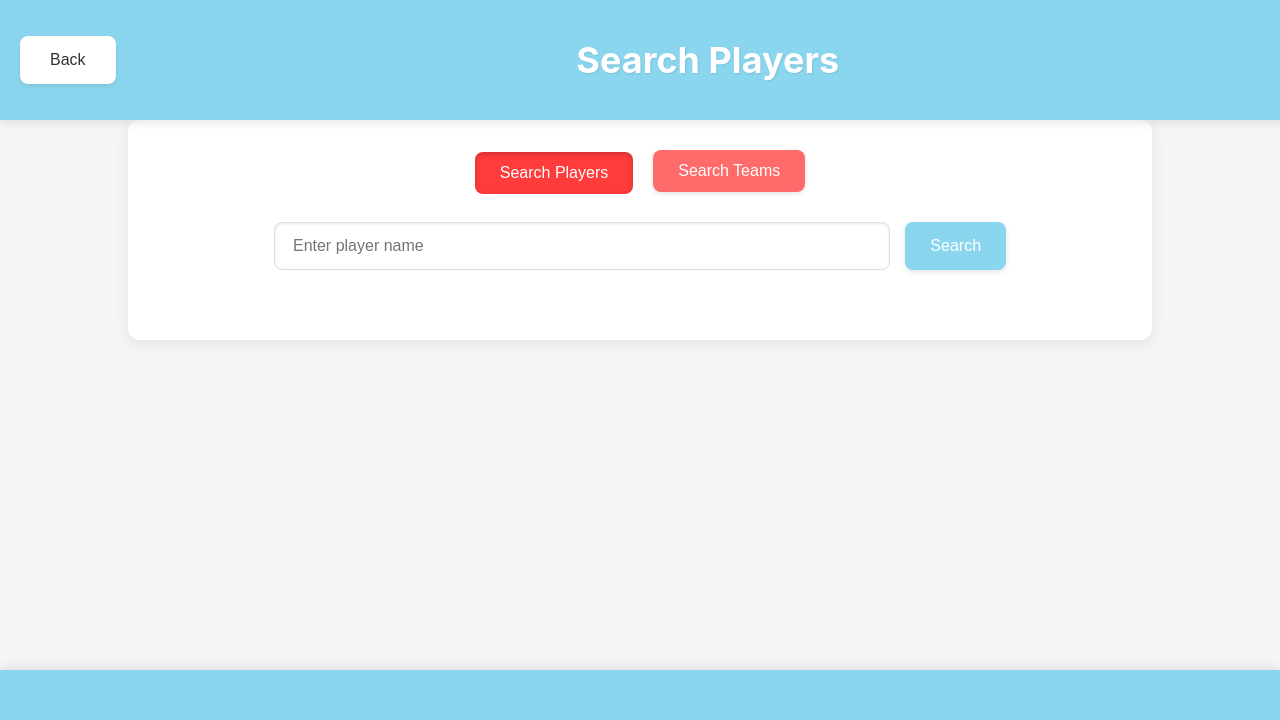
Test: SearchInterface Component › search_player_no_results
// trigger user input
Step 1. Type "Unknown Player" into the field with placeholder "Enter player name" → (582, 246), box [274, 222, 890, 270]
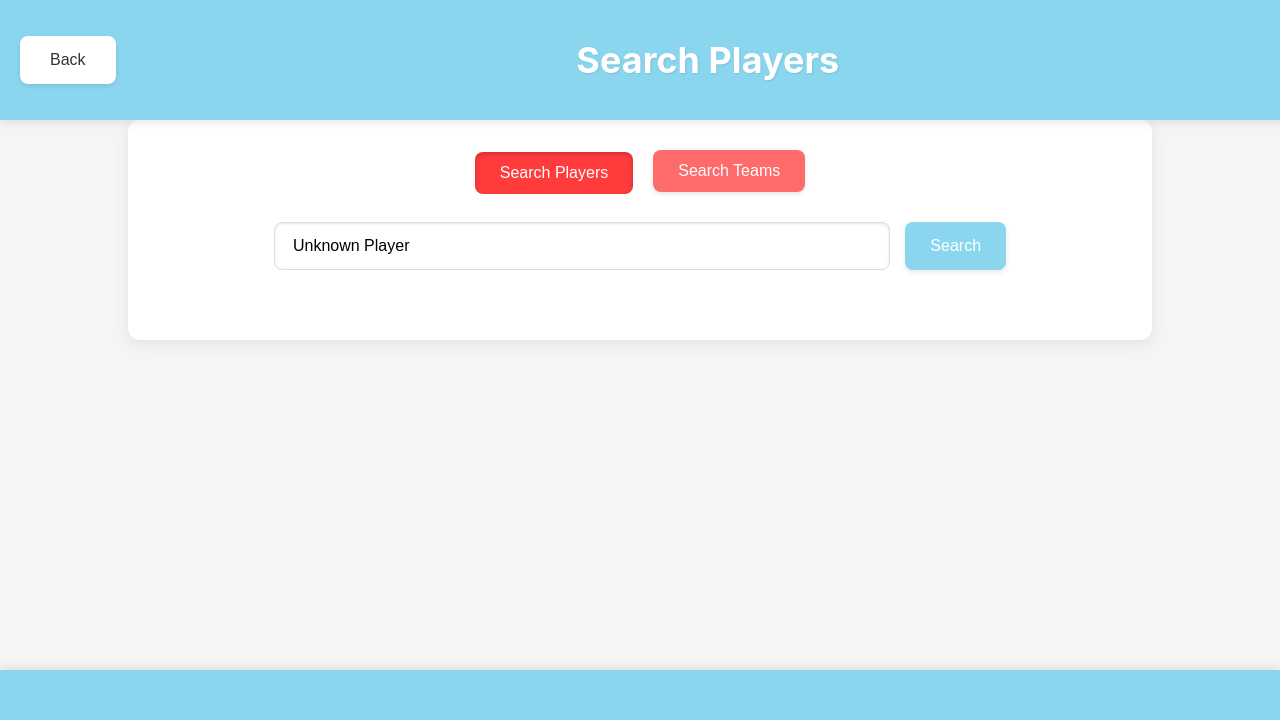
Step 2. Click the button "Search" → (956, 246), box [905, 222, 1006, 270]
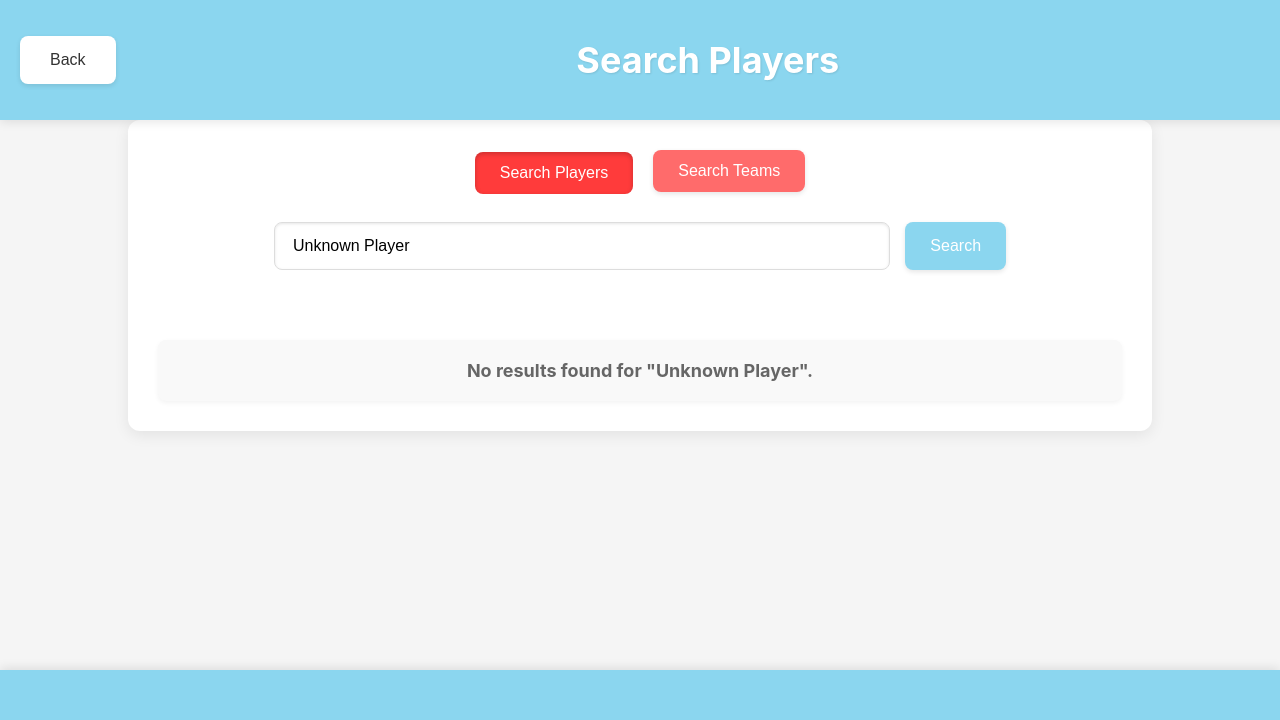
Check: the heading "No results found for \"Unknown Player\"." is shown, box [467, 360, 813, 381]
